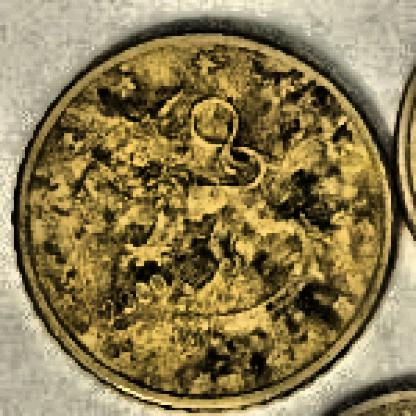coin: (7, 25, 398, 411)
